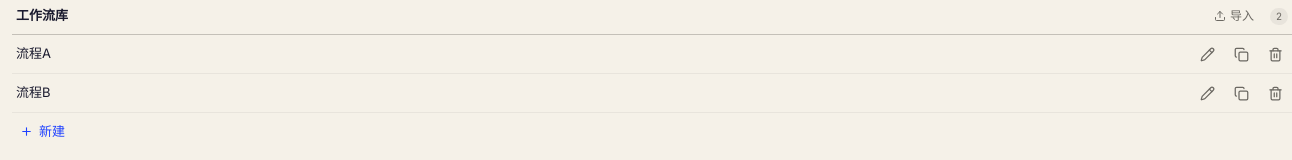
Scenario: WorkflowLibrary 工作流库（应用级） › 删除后列表移除该工作流
Expected: the text "流程B" is shown, [16, 84, 50, 100]
Click the button named "删除 流程B" at (1275,93), box [1262, 80, 1288, 106]
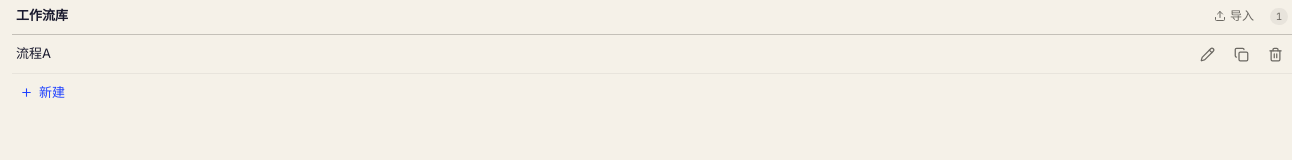
Expected: the text "流程B" is gone
